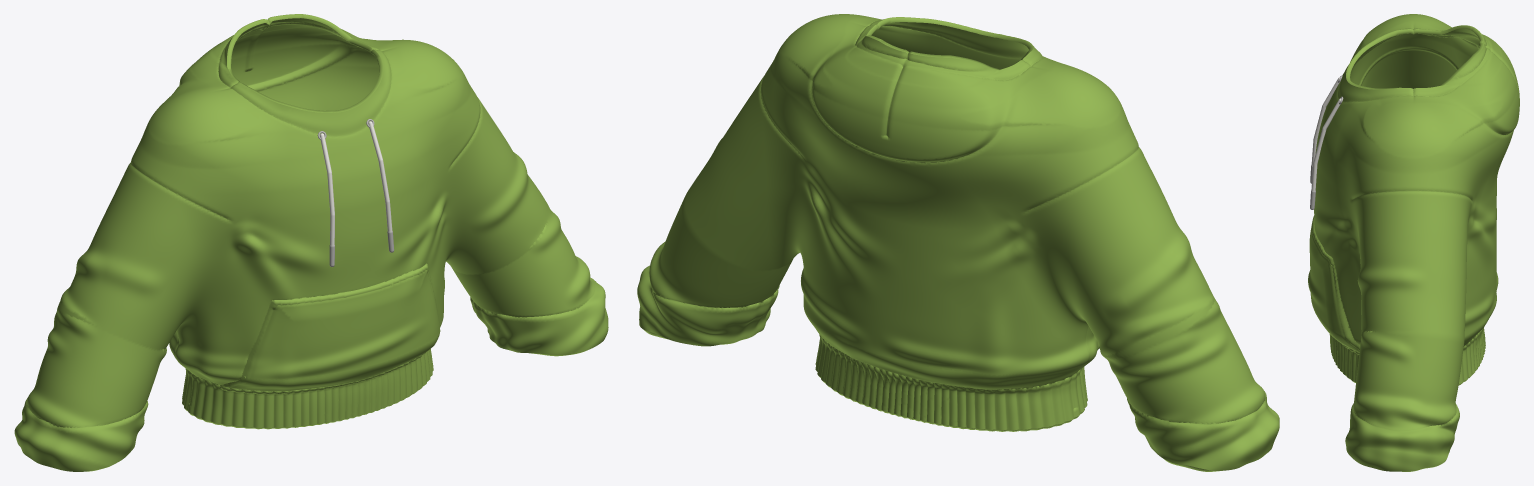
The model's file is 03_sudadera_capucha_crop.glb.
The picture shows the model from 3 angles, left to right: view 1: azimuth 30°, elevation 25°; view 2: azimuth 150°, elevation 25°; view 3: azimuth 270°, elevation 25°; orthographic projection. The views are drawn at different scales.
Visible parts, largest first — view 1: body, trim; view 2: body; view 3: body, trim.
Boxes of the visible parts, <box> form: body: <box>14,14,608,471</box>; trim: <box>320,121,392,245</box>; body: <box>637,14,1279,471</box>; body: <box>1308,14,1519,471</box>; trim: <box>1311,77,1341,190</box>.
Size of the model in its own units: 0.9531 by 0.5373 by 0.3371.
